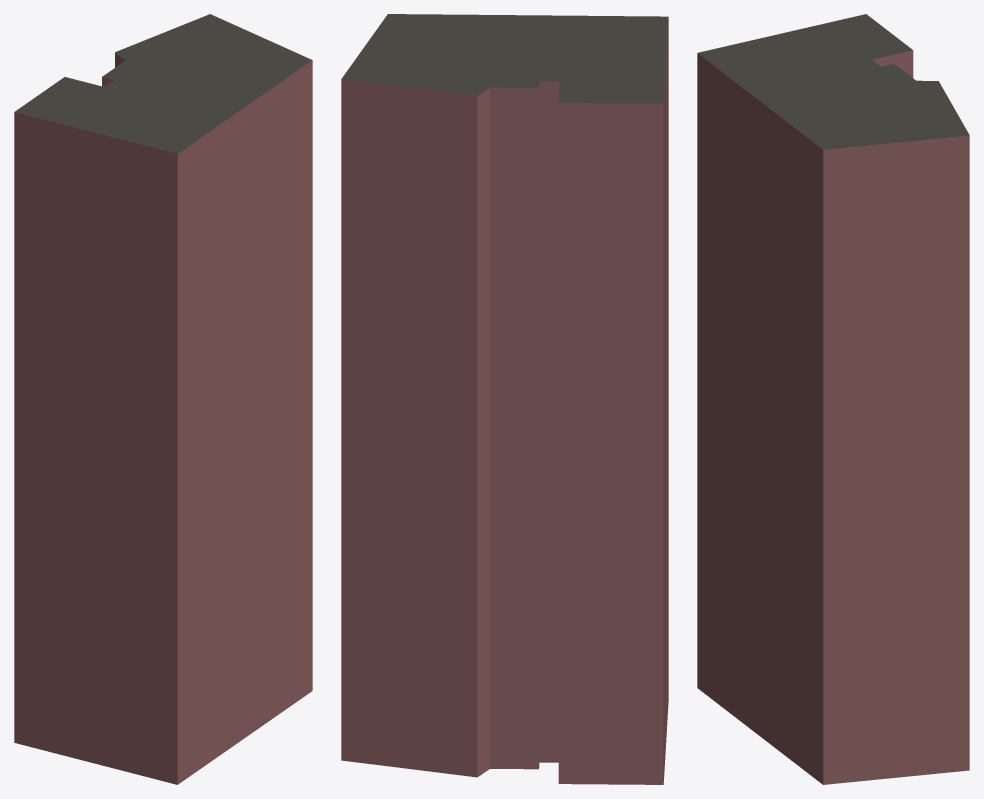
Rendered from nyc-1022569-0.glb.
3 renders of one model, left to right at view 1: azimuth 30°, elevation 25°; view 2: azimuth 150°, elevation 25°; view 3: azimuth 270°, elevation 25°, orthographic. The views are drawn at different scales.
Parts seen in each view (by area): view 1: nyc-1022569-0; view 2: nyc-1022569-0; view 3: nyc-1022569-0.
Boxes of the visible parts, box(x1,y1,x2,y2) form: nyc-1022569-0: box(14, 14, 312, 784); nyc-1022569-0: box(341, 14, 668, 784); nyc-1022569-0: box(697, 14, 969, 784).
Bounding box in the file's own units: 59.03 × 129 × 50.02.
